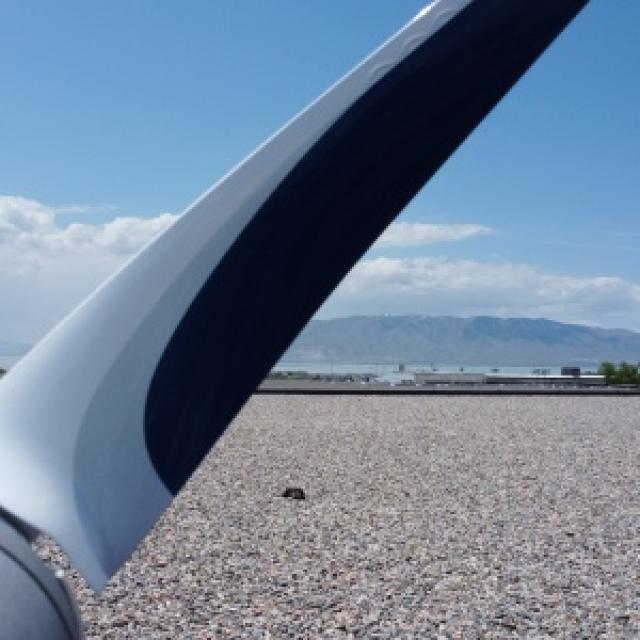healthy: (0, 0, 582, 638)
